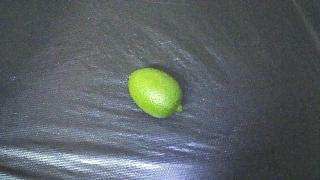LOCAL: (128, 68, 183, 118)
